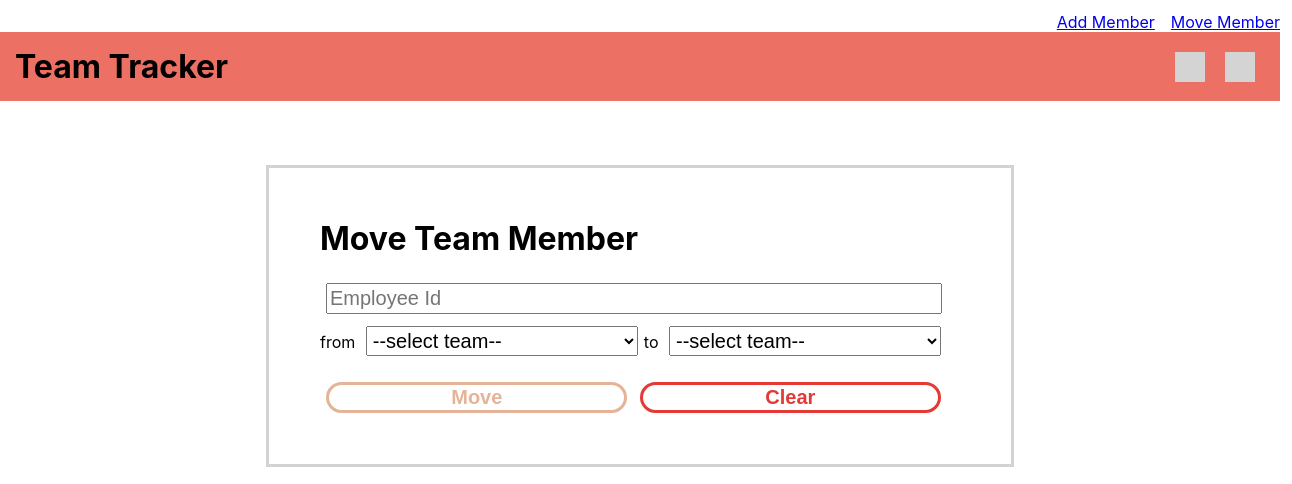
Scenario: Testing Header Component › Clear
Expected: the button "Move" is disabled, [326, 382, 627, 413]
Type "100002" into the field with placeholder "Employee Id" at x=634, y=299, box [326, 283, 942, 314]
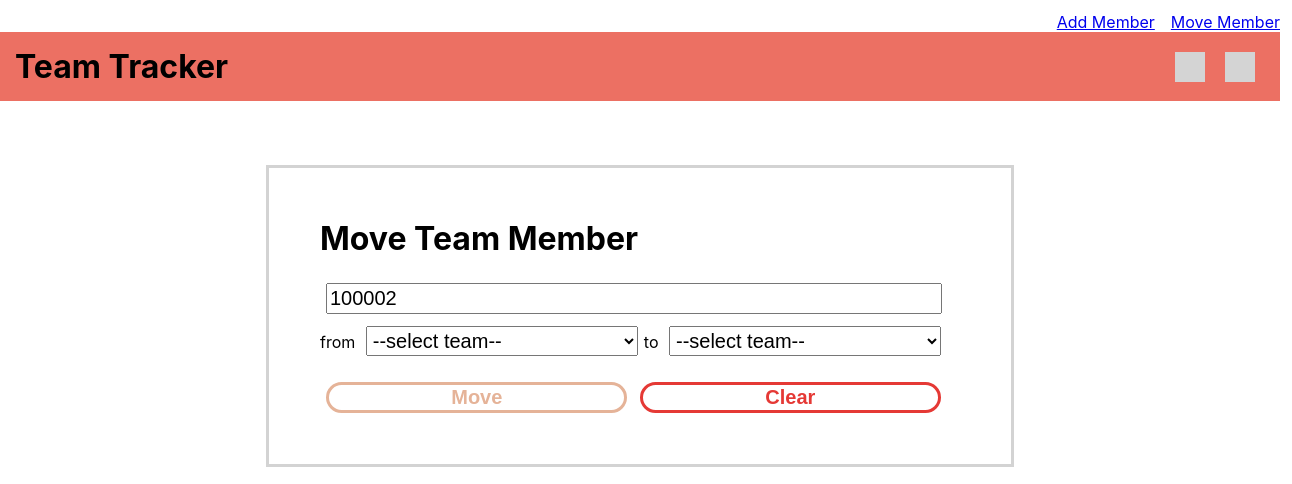
Select "Backend" in the 1st dropdown at x=502, y=341, box [366, 326, 638, 356]
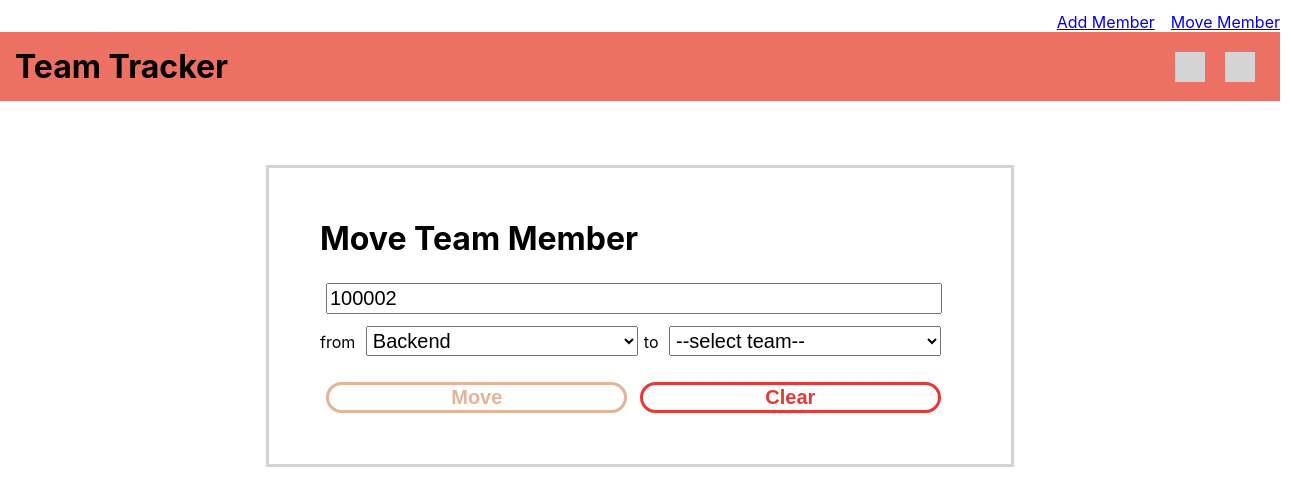
Select "Frontend" in the 2nd dropdown at x=805, y=341, box [669, 326, 941, 356]
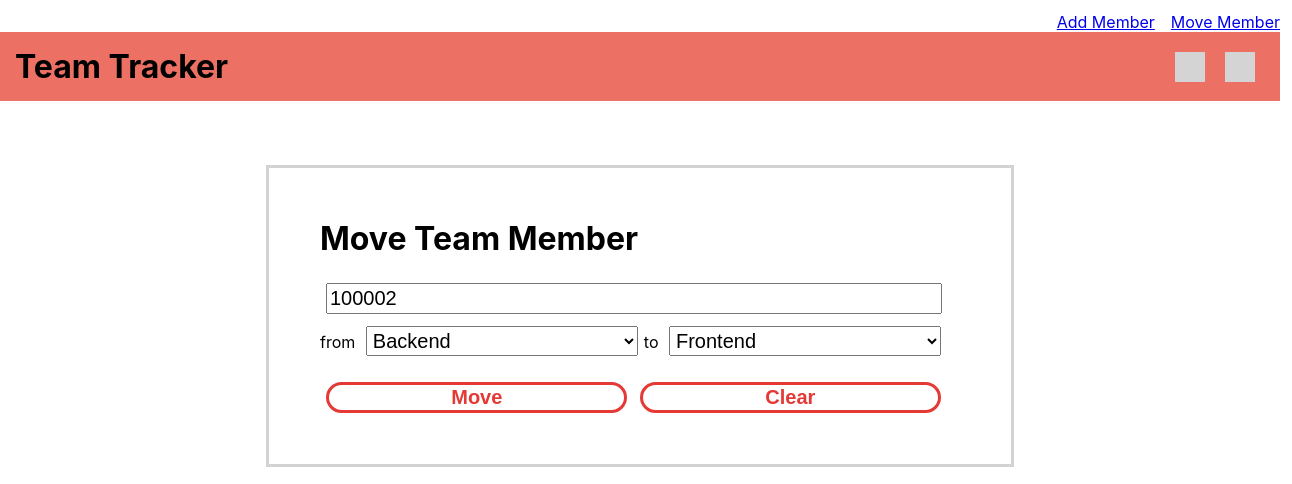
Now the button "Move" is enabled, box [326, 382, 627, 413]
Click the button "Clear" at x=790, y=397, box [640, 382, 941, 413]
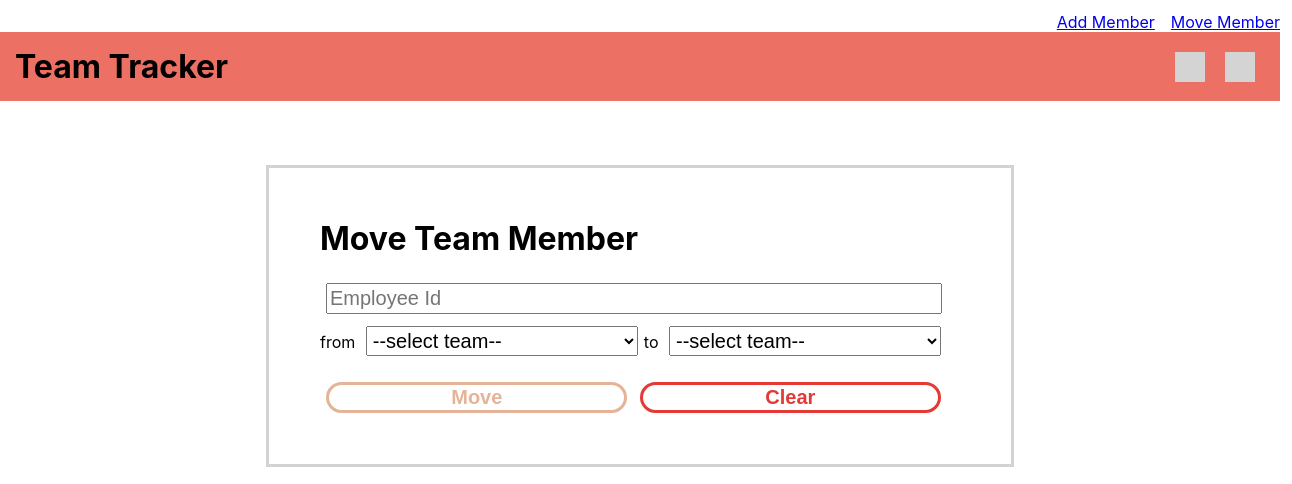
Now the button "Move" is disabled, box [326, 382, 627, 413]
Now the field with placeholder "Employee Id" is empty, box [326, 283, 942, 314]
